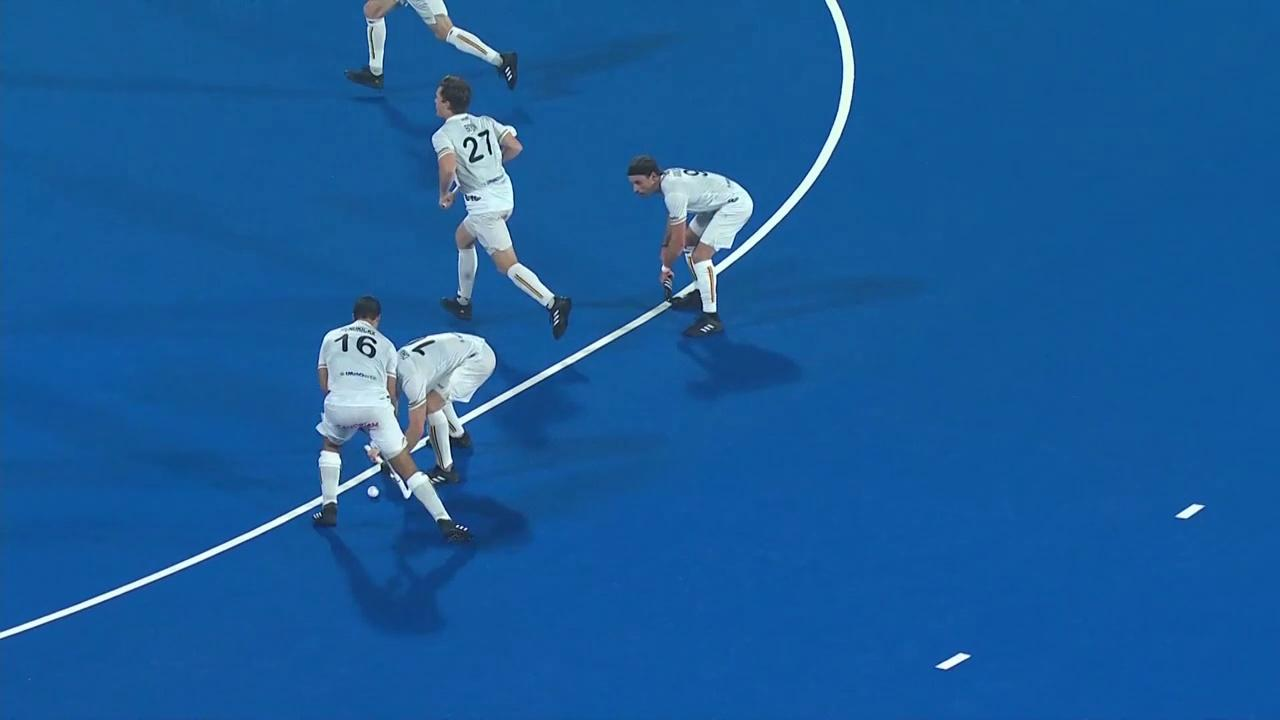ball: (357, 476, 394, 507)
